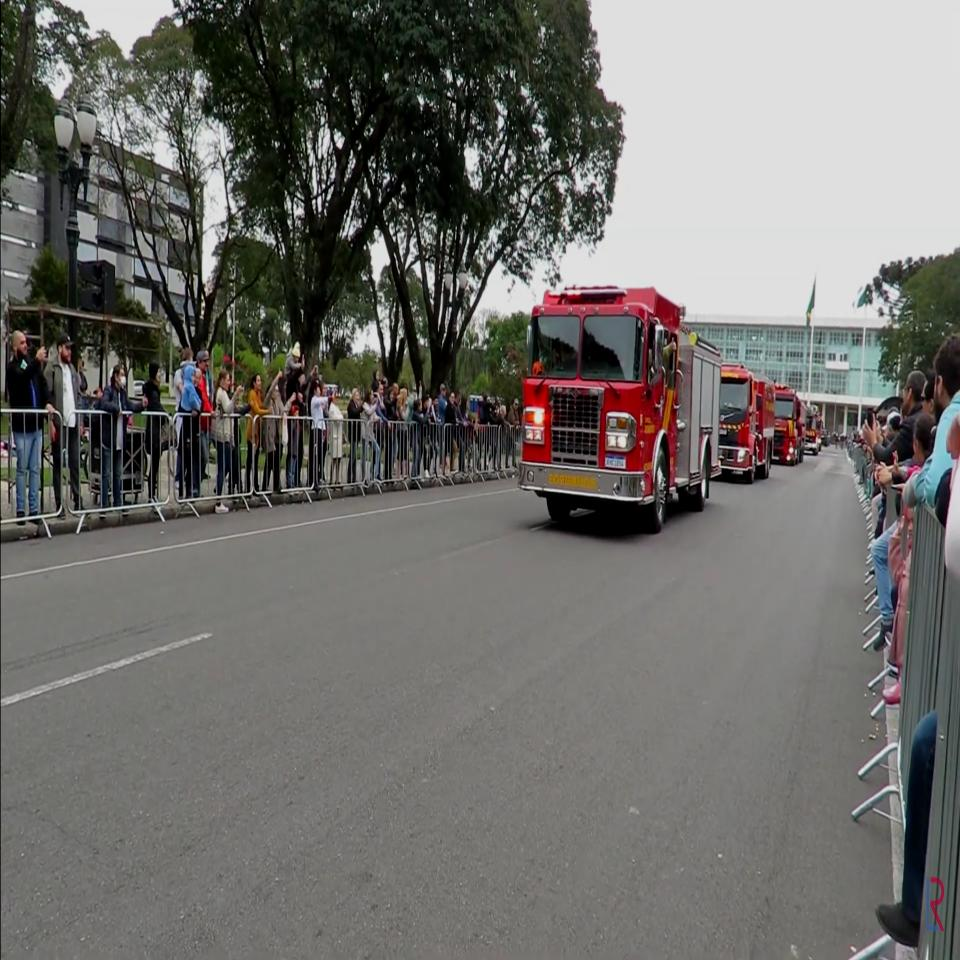bombeiro: (517, 282, 720, 529), (720, 362, 775, 484)
